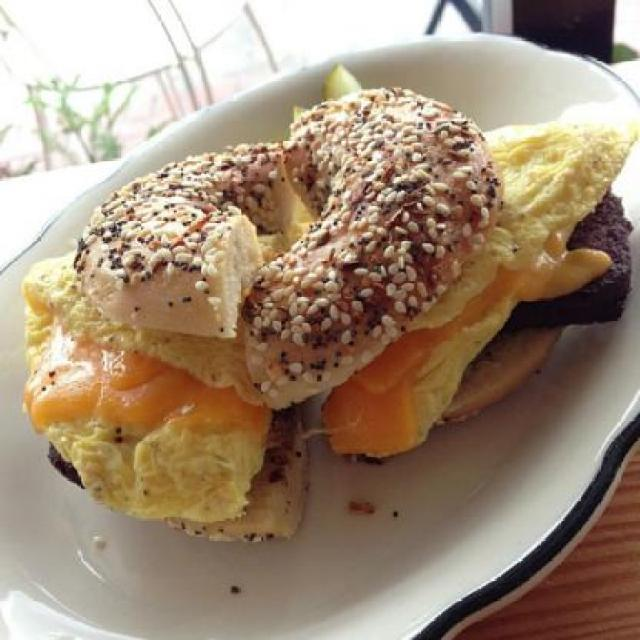Bagel: (48, 84, 570, 544)
